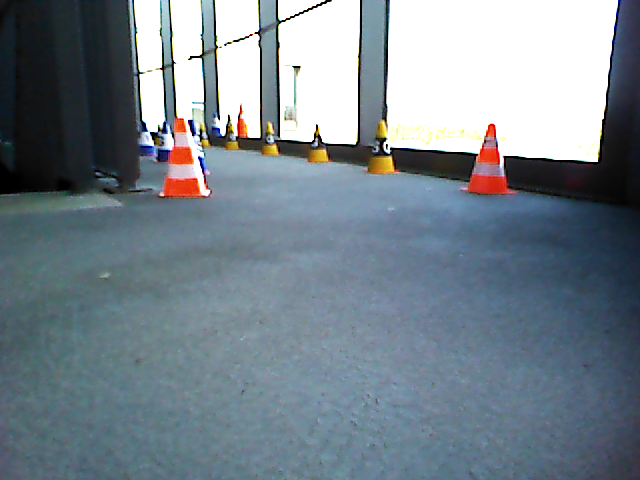bluecone: (139, 122, 156, 154), (158, 122, 171, 161)
orangeconesmall: (164, 119, 208, 197), (464, 124, 512, 195)
yellowcone: (370, 121, 393, 170), (309, 125, 327, 160), (263, 122, 278, 153), (227, 125, 237, 148)
